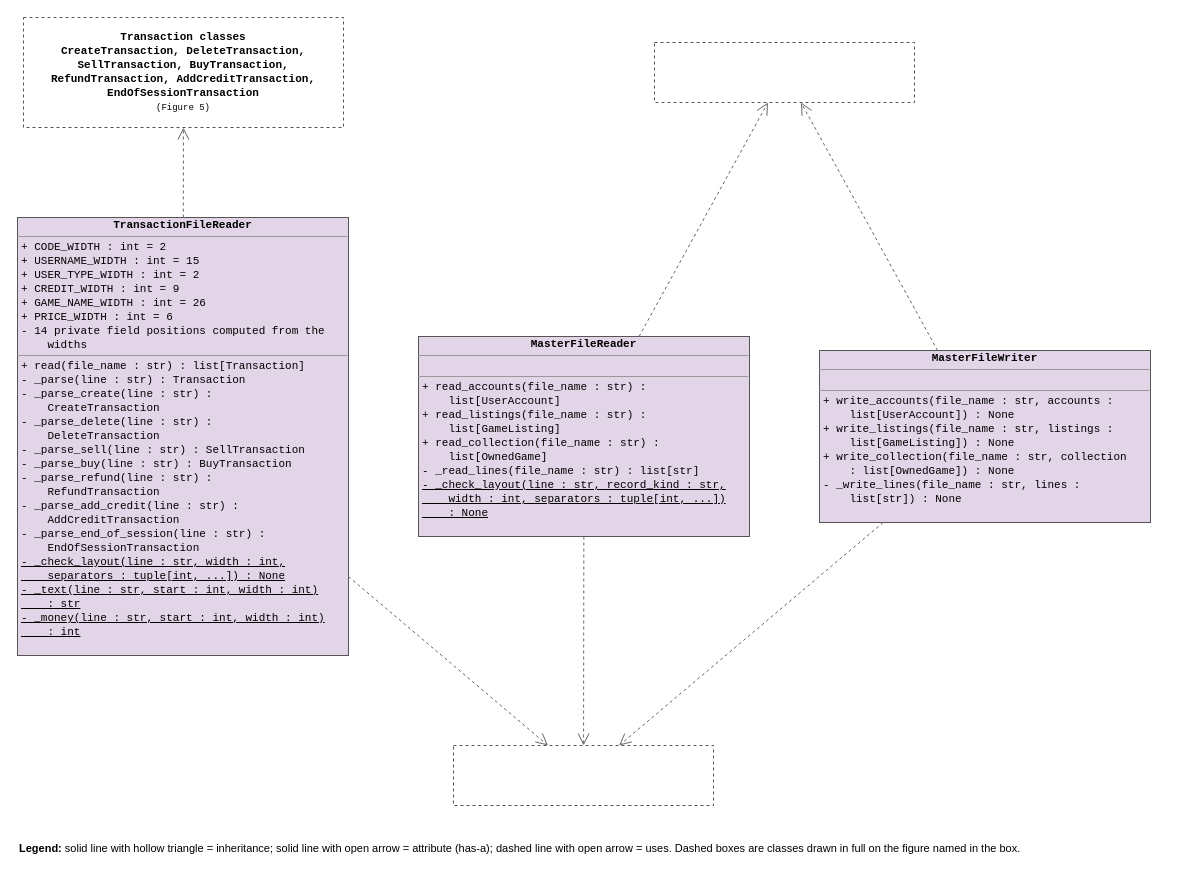
The diagram is 1188 pixels wide and 887 high, and some of its shapes have lost their labels. Each missing label, with the centre of its shape:
FatalInputError, Money, FixedWidthFormat (Figure 3): (583,775)
UserAccount, GameListing, OwnedGame (Figure 4): (784,72)
